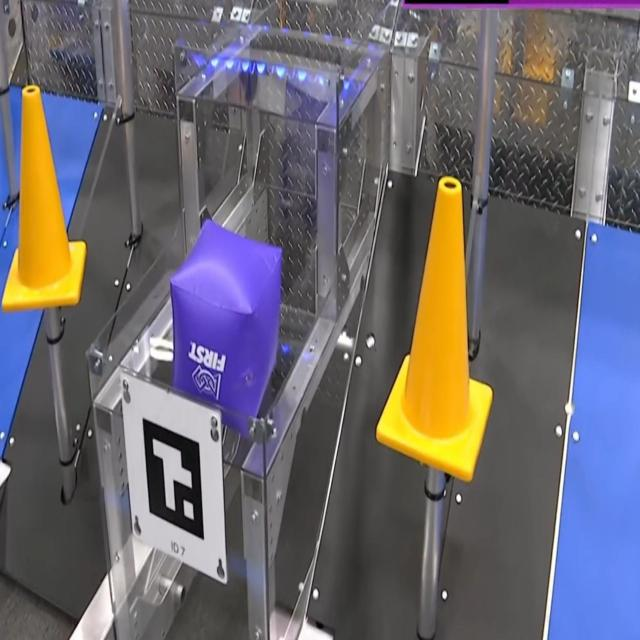frc_cone: (374, 176, 497, 485), (2, 79, 88, 313)
frc_cube: (170, 215, 283, 440)
